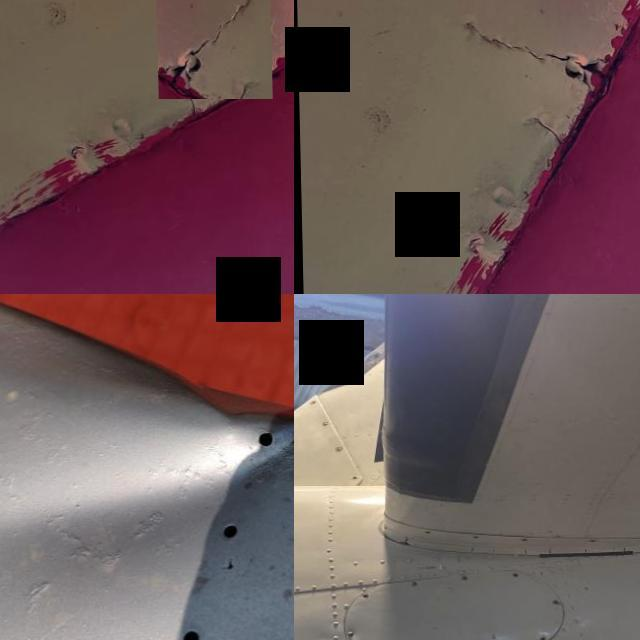Crack: (456, 13, 612, 96), (154, 0, 270, 99), (169, 75, 208, 124), (527, 109, 569, 150), (280, 392, 294, 457)
Dent: (0, 294, 294, 574)
Missing_Fastener: (360, 592, 369, 600), (510, 572, 518, 579), (534, 636, 546, 640), (349, 476, 356, 481), (520, 538, 528, 542), (470, 536, 479, 539), (310, 401, 316, 405), (424, 530, 429, 534)
